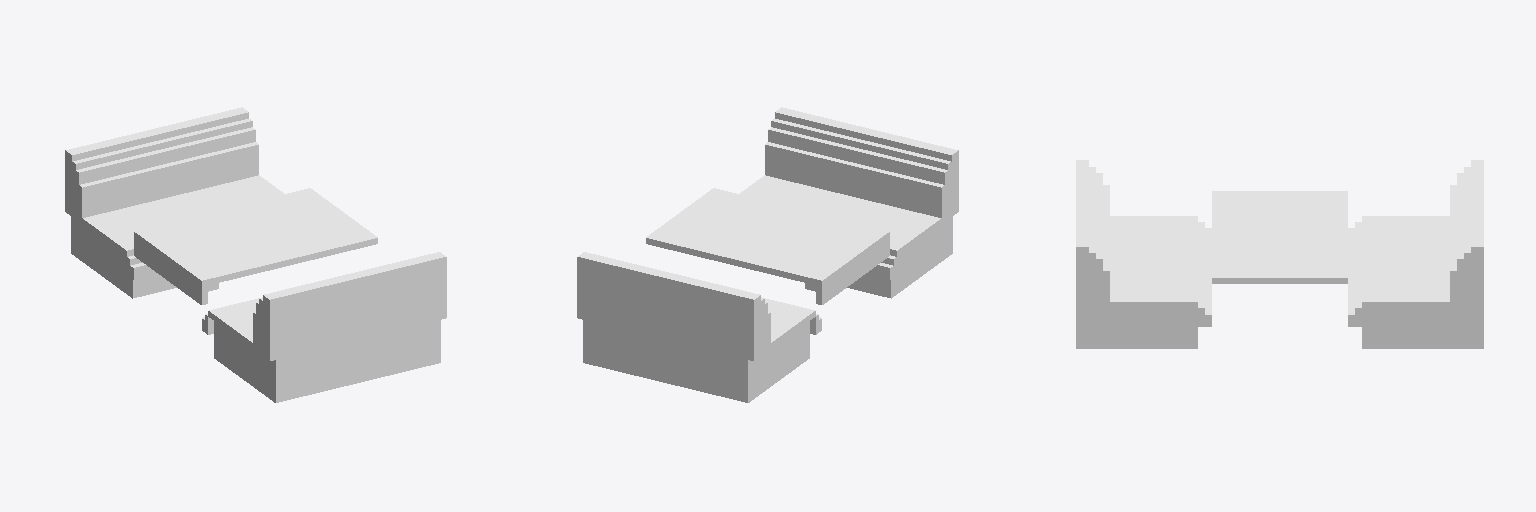
File: smalll_wood_sofa_30_60_17.obj
3 renders of one model, left to right at view 1: azimuth 30°, elevation 25°; view 2: azimuth 150°, elevation 25°; view 3: azimuth 270°, elevation 25°, orthographic.
Parts seen in each view (by area): view 1: object 1; view 2: object 1; view 3: object 1.
Part boxes in pixels (left/top/right/bottom): object 1: left=65, top=107, right=446, bottom=402; object 1: left=577, top=107, right=958, bottom=402; object 1: left=1076, top=160, right=1483, bottom=348.
Bounding box in the file's own units: 3 × 1.7 × 6.